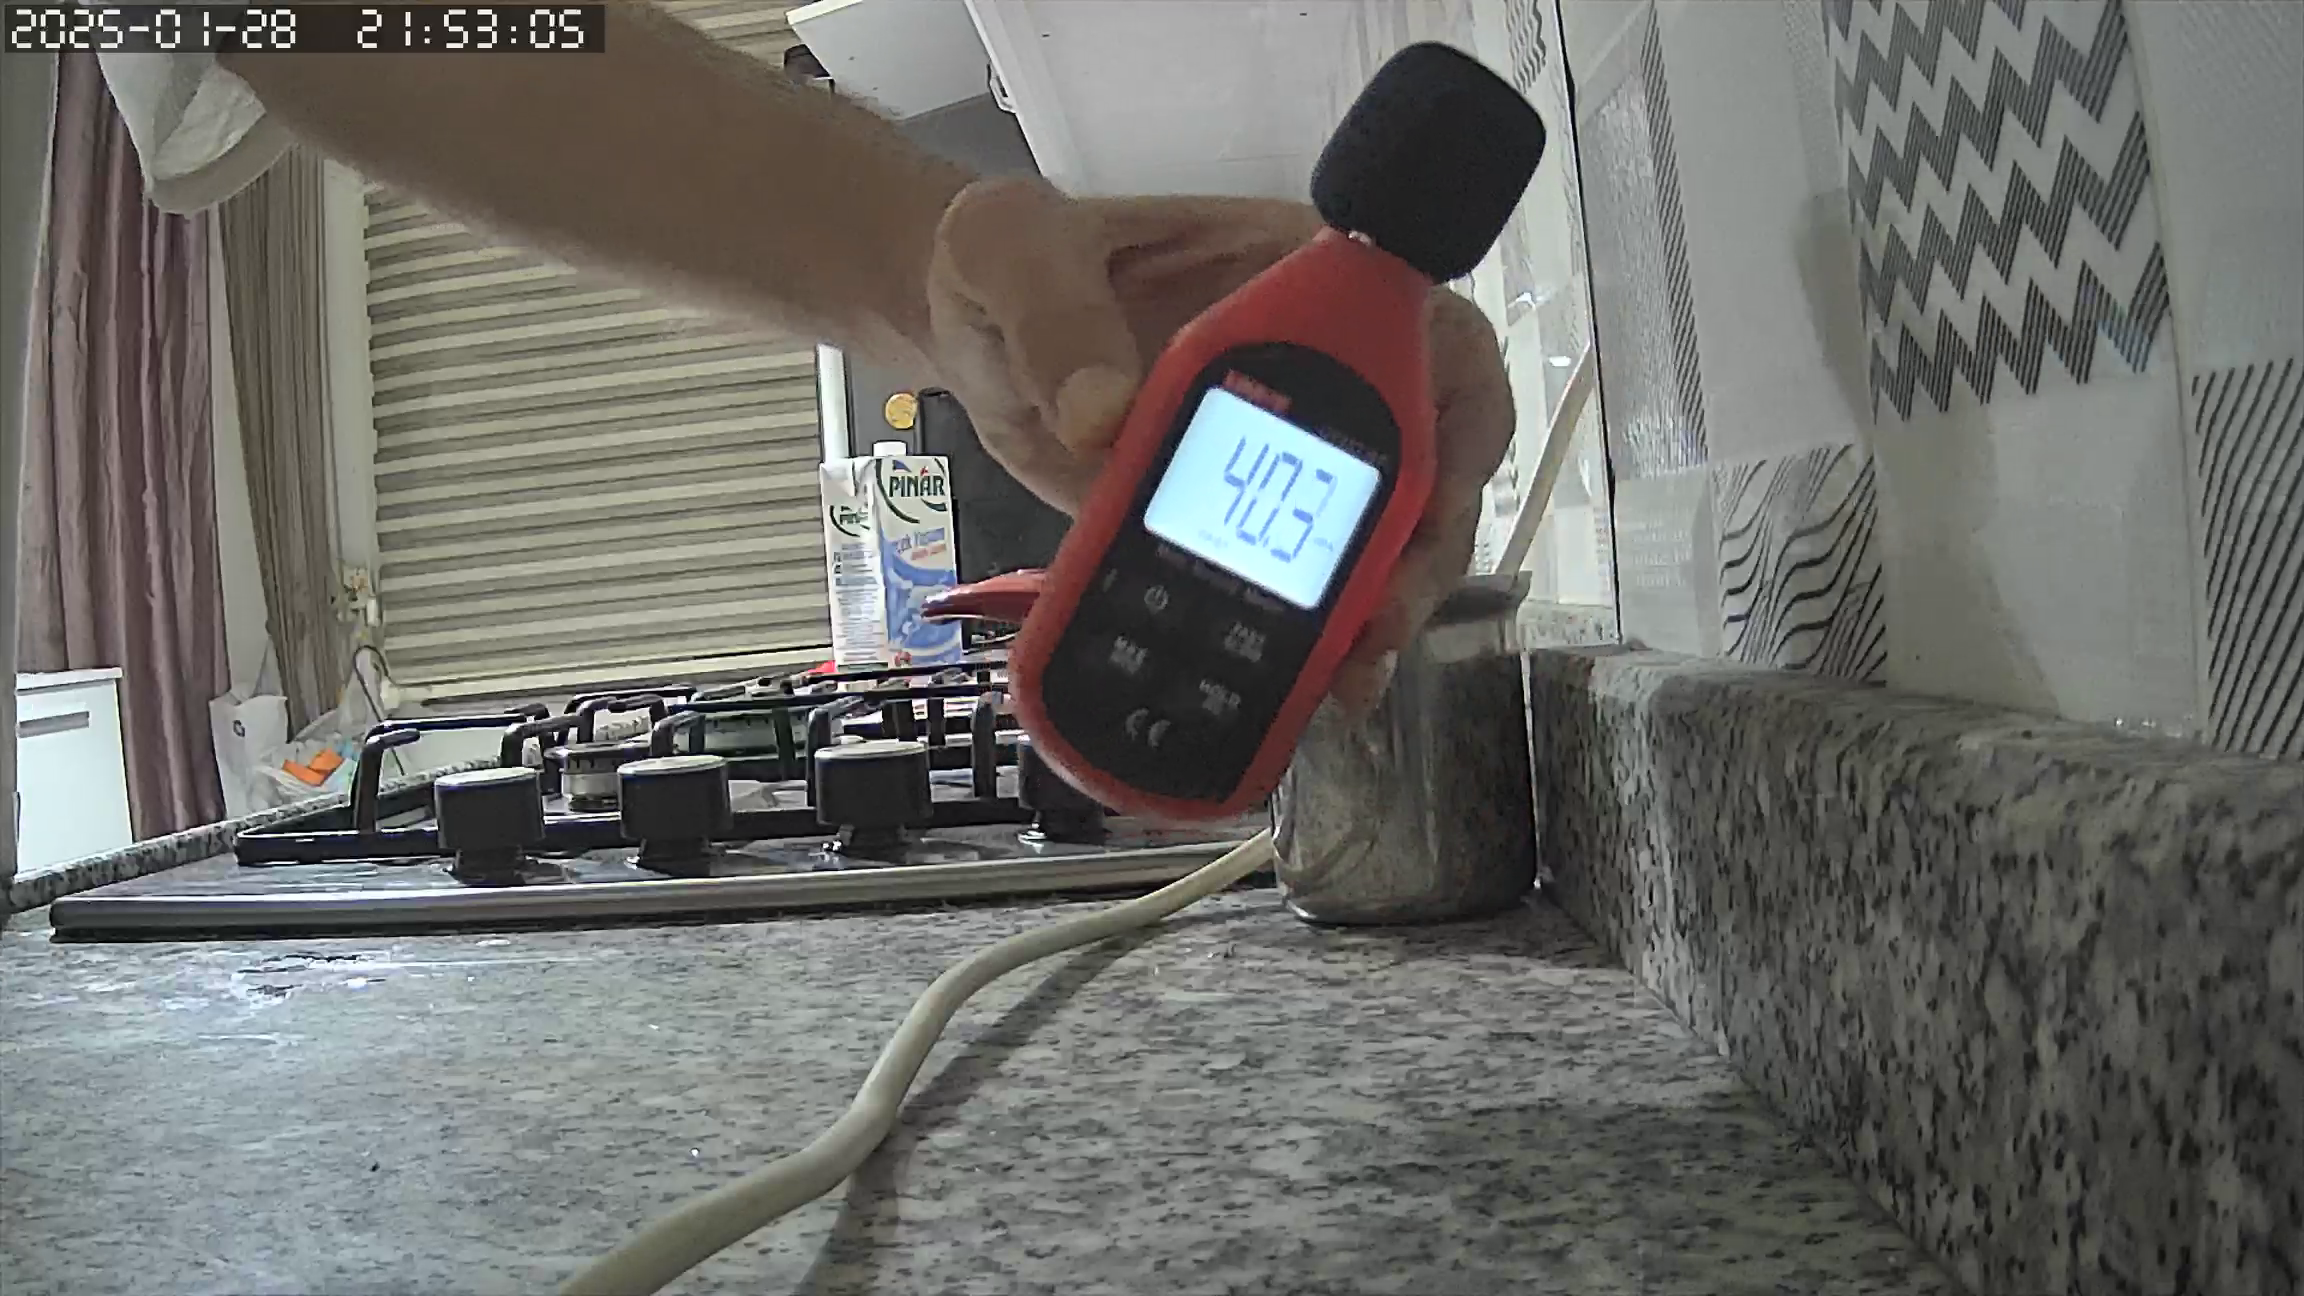screen: (1143, 385, 1378, 614)
